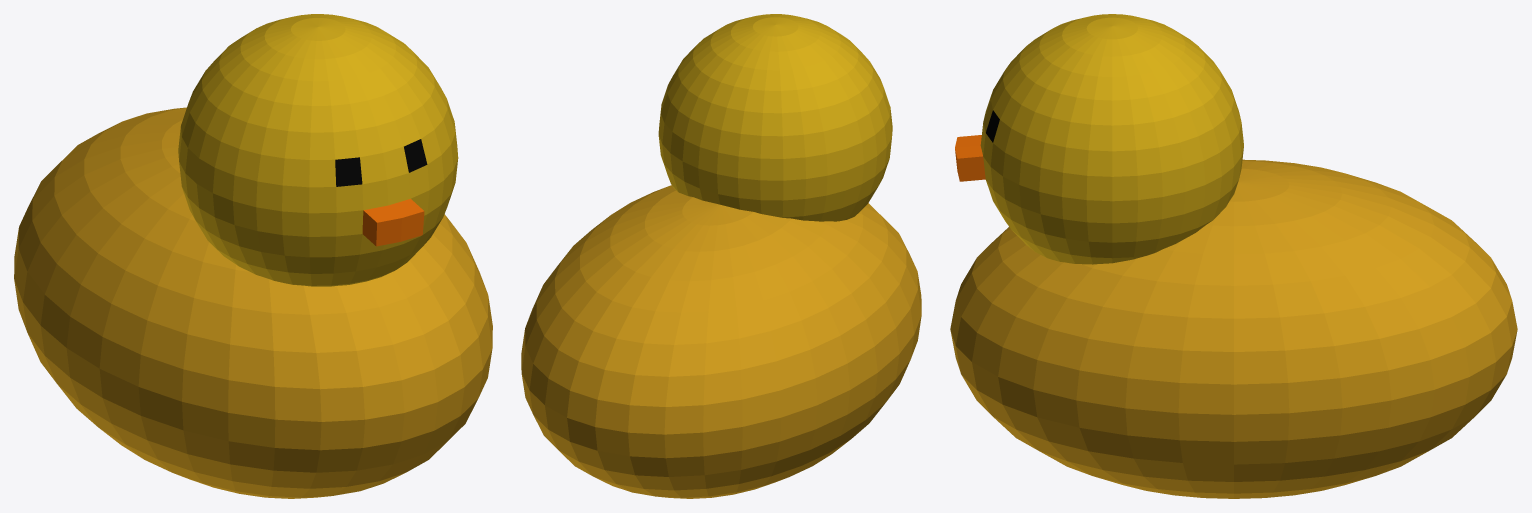
File: lowPolyRubberDuck.fbx
The picture shows the model from 3 angles, left to right: view 1: azimuth 30°, elevation 25°; view 2: azimuth 150°, elevation 25°; view 3: azimuth 270°, elevation 25°; orthographic projection. The views are drawn at different scales.
Visible parts, largest first — view 1: Sphere, Sphere.001; view 2: Sphere, Sphere.001; view 3: Sphere, Sphere.001.
Boxes of the visible parts, <box> form: Sphere: <box>14,107,492,498</box>; Sphere.001: <box>178,14,458,286</box>; Sphere: <box>521,185,921,498</box>; Sphere.001: <box>658,14,892,221</box>; Sphere: <box>950,159,1517,498</box>; Sphere.001: <box>955,14,1243,264</box>.
Size of the model in its own units: 200 by 245 by 280.
